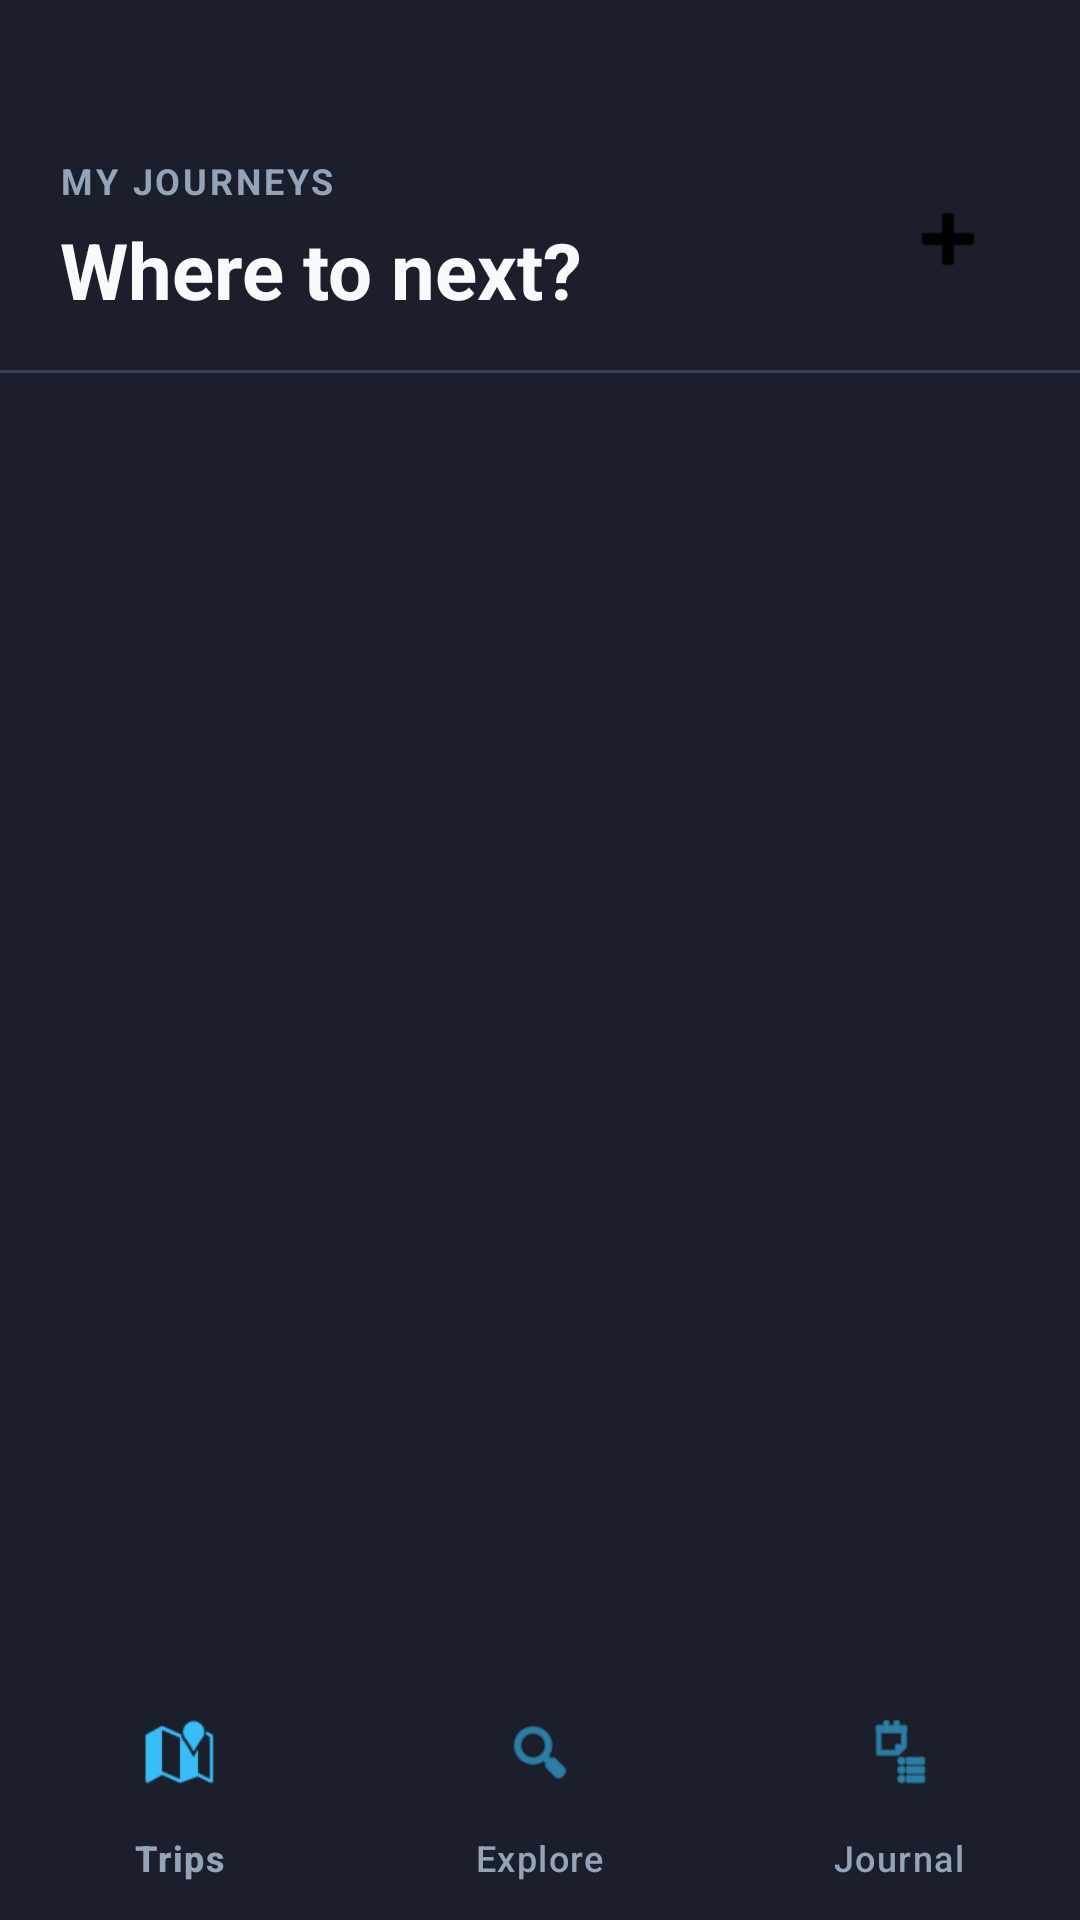

Named icons in this screenshot (1080 x 1920) and their centers, [x,y]:
Add Trip: [948,239]
